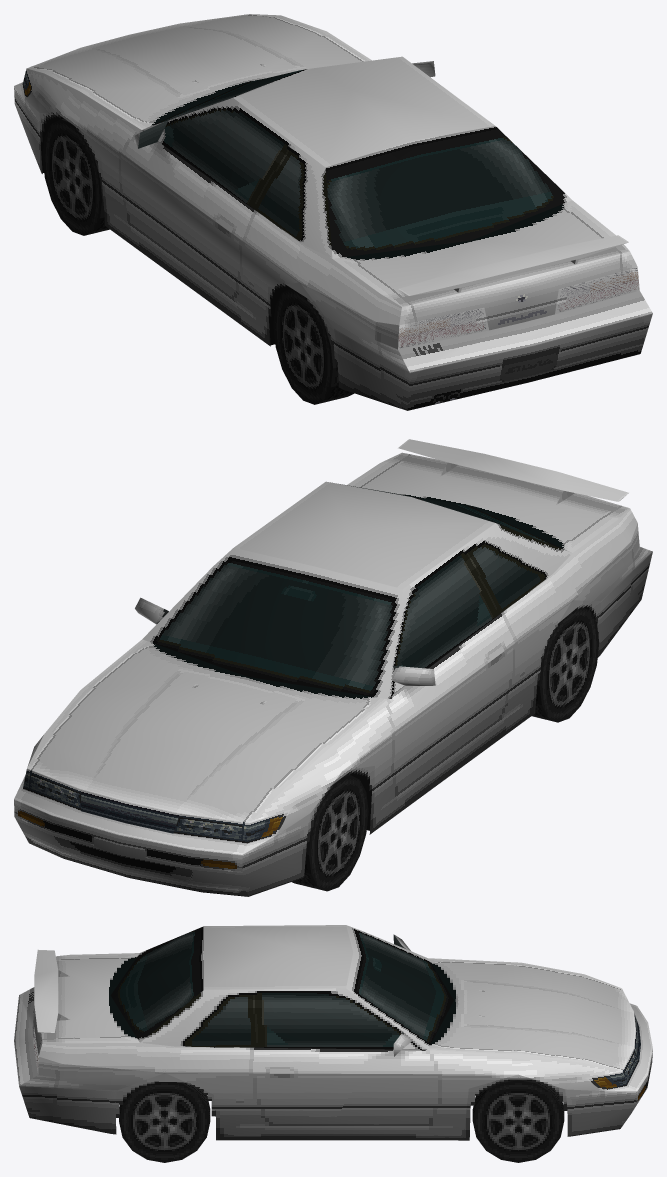
File: GT_SIMULATION__NQ23N.glb
3 renders of one model, top to bottom at view 1: azimuth 30°, elevation 25°; view 2: azimuth 150°, elevation 25°; view 3: azimuth 270°, elevation 25°, orthographic. The views are drawn at different scales.
Parts seen in each view (by area): view 1: Native body LOD0, Native wheel 2, Native wheel 0; view 2: Native body LOD0, Native wheel 0, Native wheel 2; view 3: Native body LOD0, Native wheel 1, Native wheel 3.
Part boxes in pixels (<box>): Native body LOD0: <box>14,14,652,410</box>; Native wheel 2: <box>273,288,354,404</box>; Native wheel 0: <box>42,118,109,235</box>; Native body LOD0: <box>14,439,652,896</box>; Native wheel 0: <box>292,774,368,891</box>; Native wheel 2: <box>531,607,599,722</box>; Native body LOD0: <box>14,925,652,1140</box>; Native wheel 1: <box>472,1079,564,1162</box>; Native wheel 3: <box>119,1081,210,1162</box>.
Bounding box in the file's own units: 1.84 × 1.28 × 4.47.
13 materials, 12 textured.
